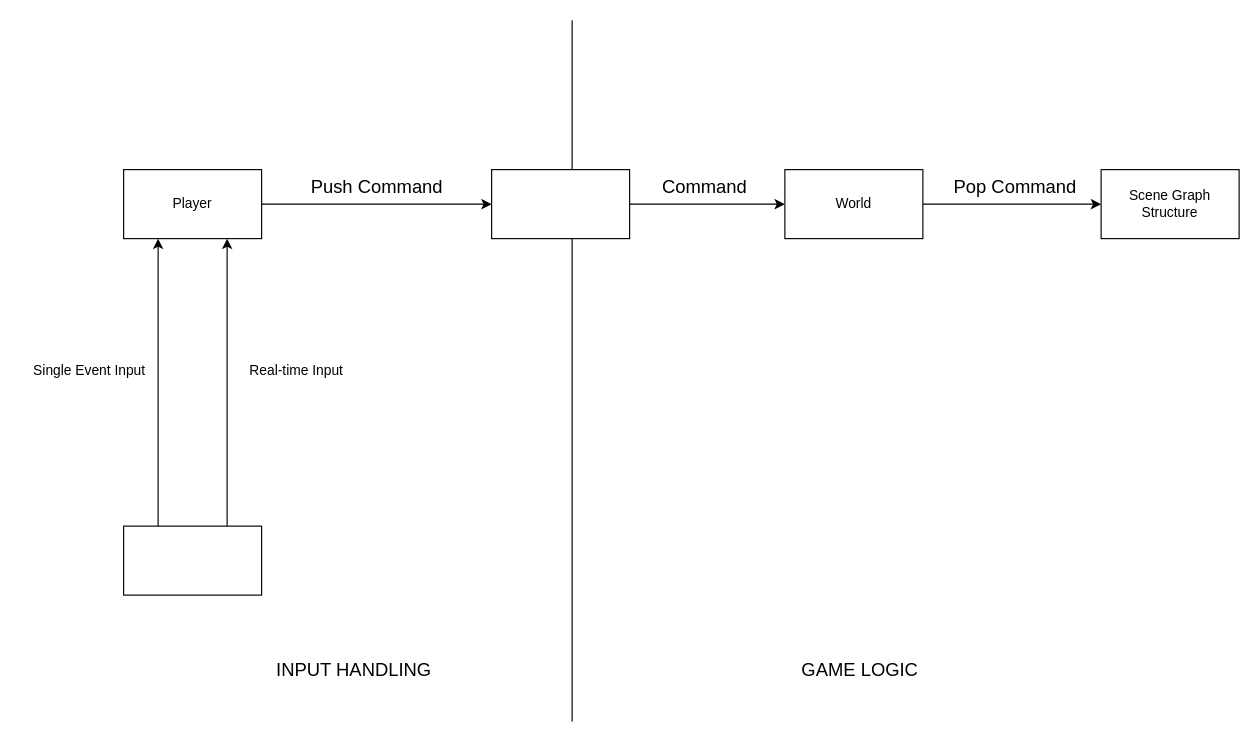
This 1259x743 diagram has some shape labels left out. Each missing label, with the centre of its shape:
"Command Queue" goes at pixel 560 203.
"Game" goes at pixel 192 560.
